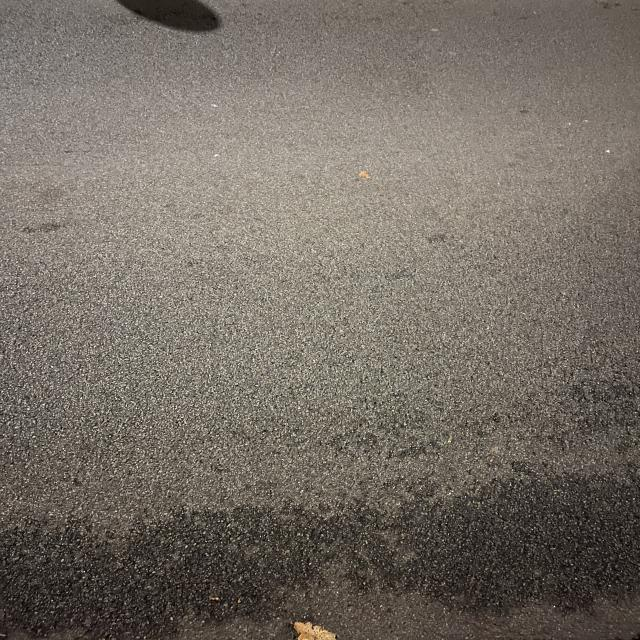leaves: (294, 614, 339, 640)
pavement: (4, 5, 640, 640)
